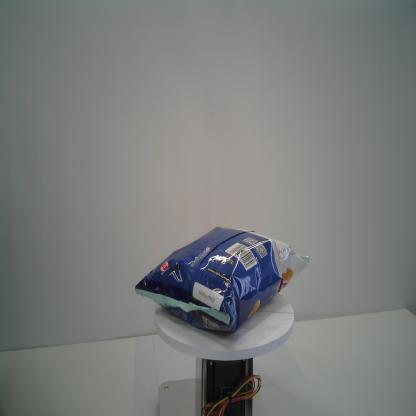Puffed Food: (134, 225, 310, 337)
